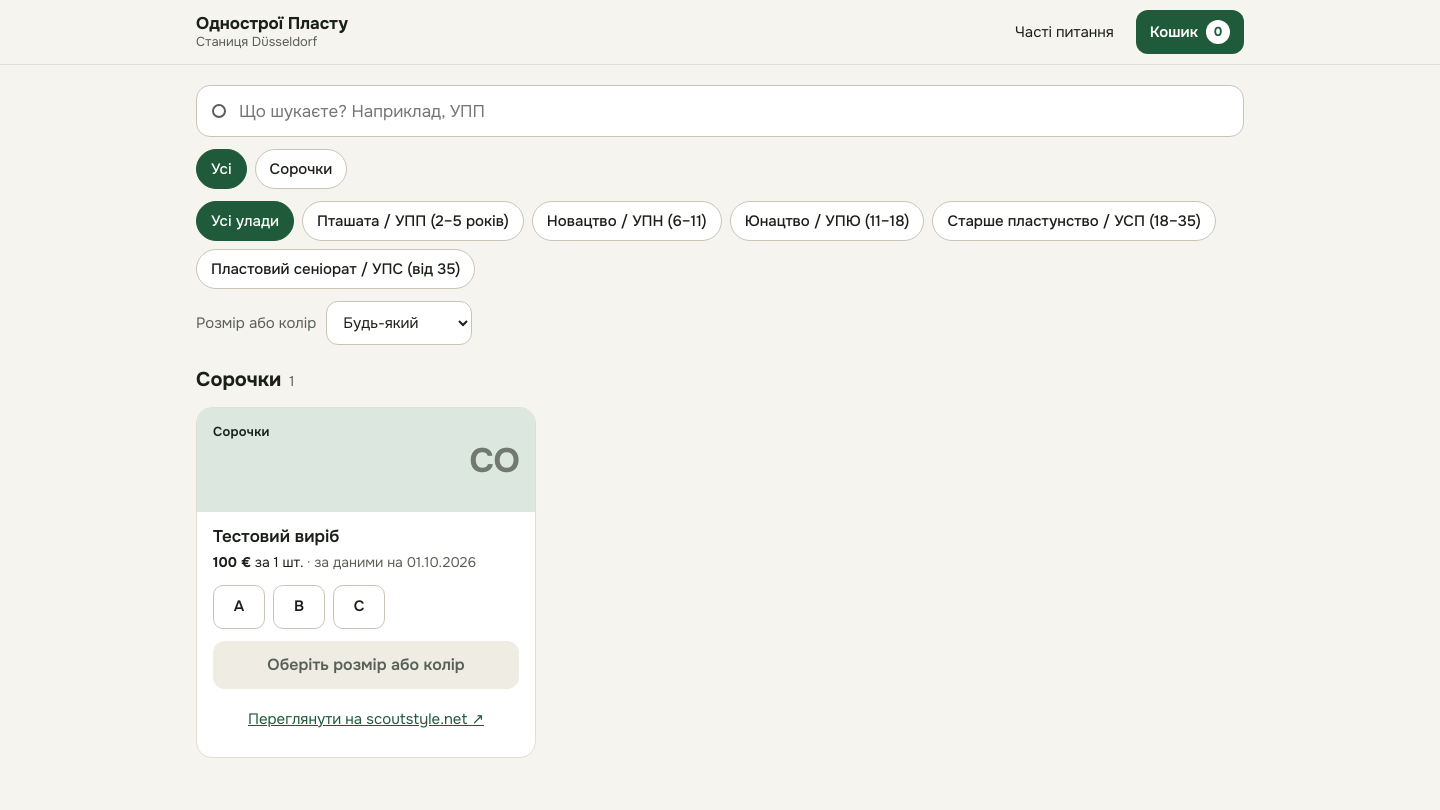
Test: SPEC-2026-10-19-item-quantity › AC-10, AC-9: без вибору — ціна першого розміру з ціною; вибраний розмір міняє ціну; без ціни — без рядка ціни
Expected: the element with class "card__price" shows "100", [213, 553, 251, 571]
Click the button named "B," at coordinates (299, 607), box [273, 585, 325, 629]
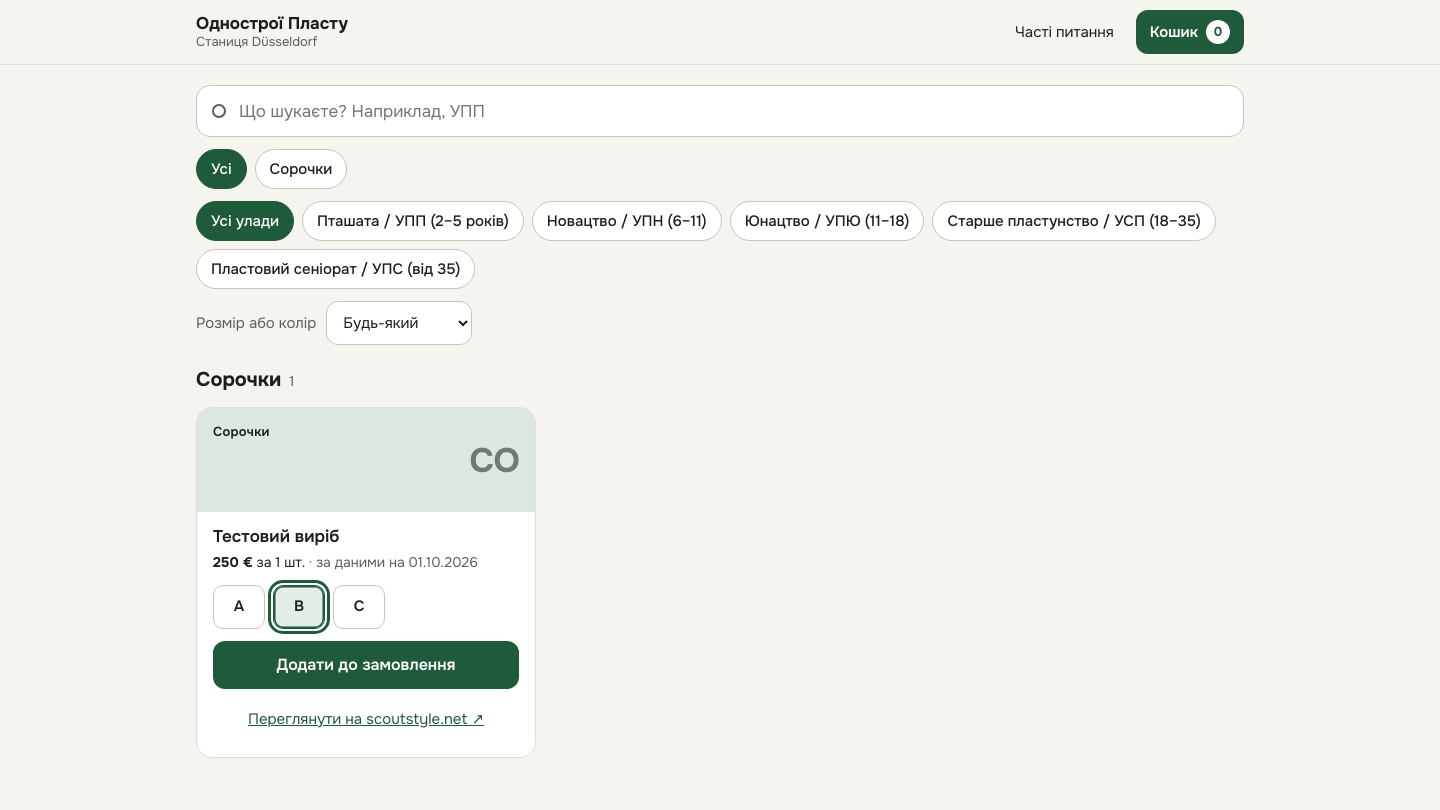
Result: the element with class "card__price" shows "250" at [213, 553, 253, 571]
Click the button named "C," at coordinates (359, 607), box [333, 585, 385, 629]
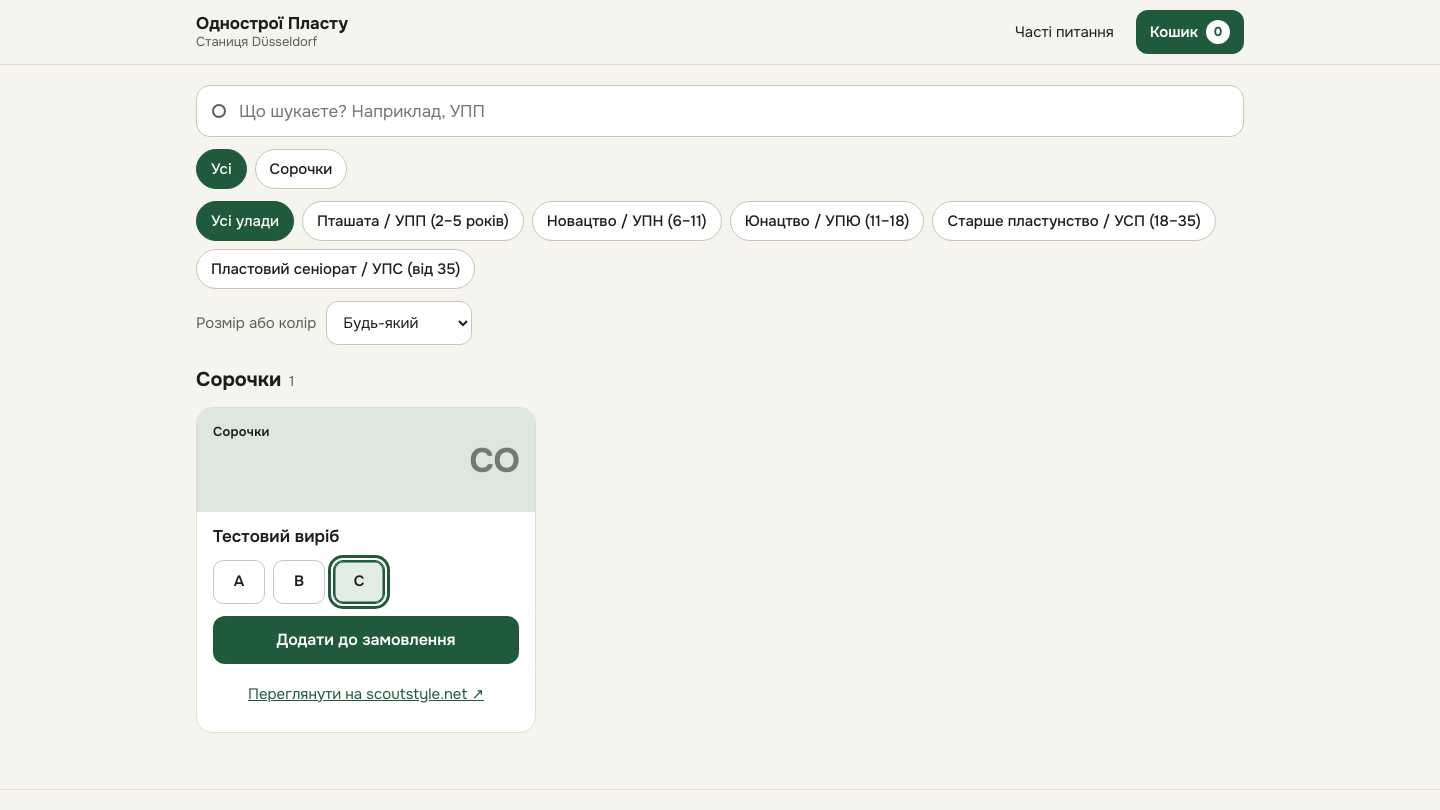
Result: the element with class "card__price" is gone
